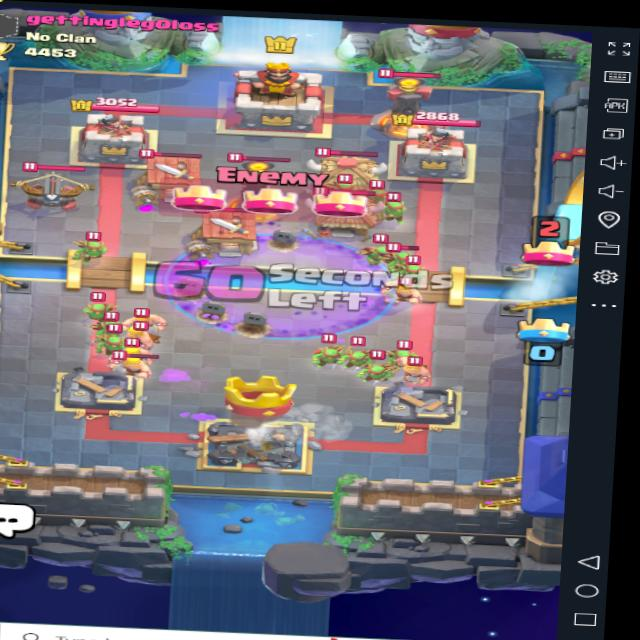barbarian: (97, 328, 157, 359), (381, 277, 432, 307), (110, 346, 159, 374), (398, 361, 443, 389), (118, 328, 160, 350), (128, 310, 162, 336)
barbarian-hut: (185, 200, 270, 254), (129, 142, 208, 199)
goblin-hut: (305, 141, 395, 204), (303, 176, 390, 236)
inferno-tower: (223, 147, 297, 220)
spear-goblin: (368, 355, 402, 389), (346, 342, 381, 373), (78, 228, 111, 260), (383, 345, 426, 367), (96, 324, 128, 350), (85, 287, 115, 313), (99, 312, 129, 337), (316, 345, 347, 369), (399, 260, 429, 283), (382, 196, 408, 222), (382, 246, 413, 267), (358, 239, 392, 258)
x-bow: (3, 152, 92, 209)
